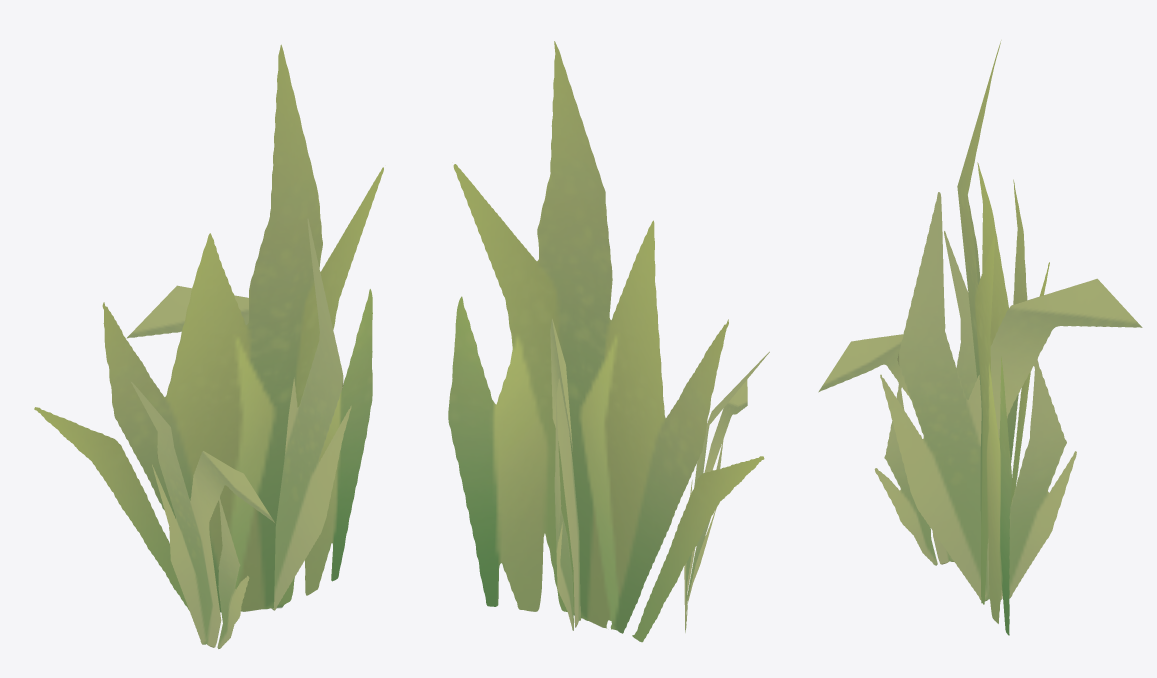
File: grass_cluster_3.fbx
3 renders of one model, left to right at view 1: azimuth 30°, elevation 25°; view 2: azimuth 150°, elevation 25°; view 3: azimuth 270°, elevation 25°, orthographic. The views are drawn at different scales.
Parts seen in each view (by area): view 1: grass; view 2: grass; view 3: grass.
Boxes of the visible parts, <box> form: grass: <box>34,44,383,648</box>; grass: <box>448,41,769,642</box>; grass: <box>818,40,1142,635</box>.
Bounding box in the file's own units: 131 × 208 × 101.
